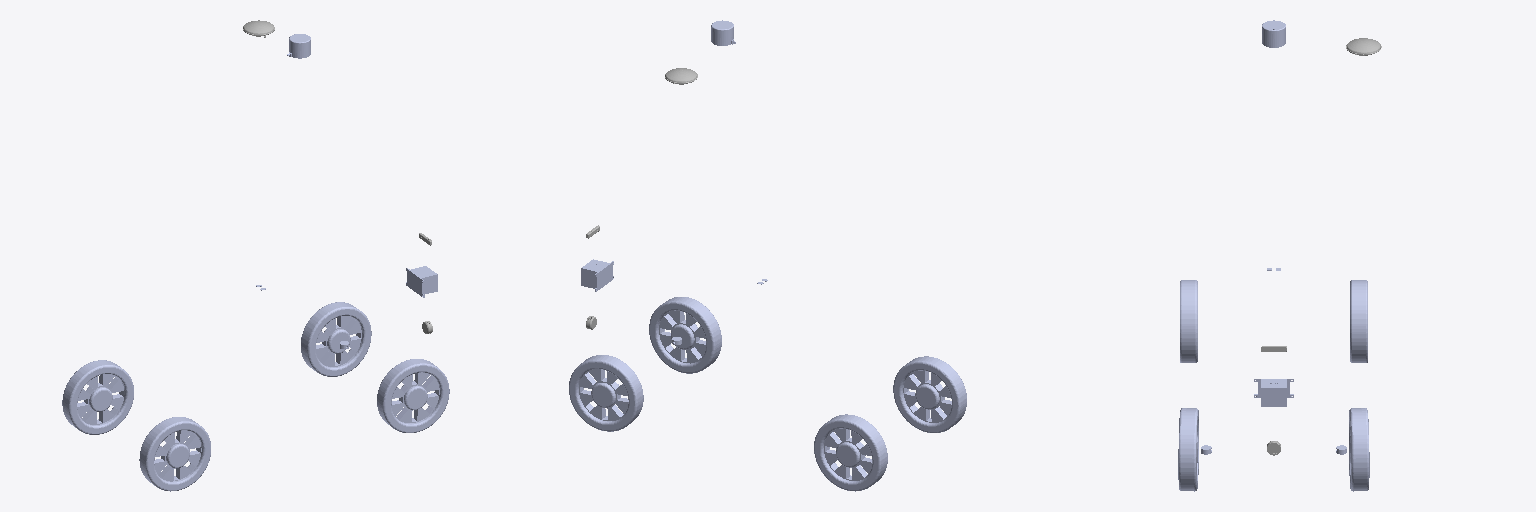
robot.urdf — carver_description:
<?xml version="1.0" encoding="utf-8"?>
<!-- This URDF was automatically created by SolidWorks to URDF Exporter! Originally created by [author] ([email redacted]) 
     Commit Version: 1.6.0-4-g7f85cfe  Build Version: 1.6.7995.38578
     For more information, please see http://wiki.ros.org/sw_urdf_exporter -->
<robot
  name="carver_description">
  <link
    name="base_link">
    <inertial>
      <origin
        xyz="0.0765717108056987 -0.000305321354473288 0.182746551264274"
        rpy="0 0 0" />
      <mass
        value="224.620223914356" />
      <inertia
        ixx="11.108875181717"
        ixy="-0.000143787949337127"
        ixz="-0.00666553671990701"
        iyy="35.7202876824402"
        iyz="-0.00132350955436525"
        izz="40.7667100665166" />
    </inertial>
    <visual>
      <origin
        xyz="0 0 0"
        rpy="0 0 0" />
      <geometry>
        <mesh
          filename="package://carver_description/meshes/base_link.STL" />
      </geometry>
      <material
        name="">
        <color
          rgba="0.792156862745098 0.819607843137255 0.933333333333333 1" />
      </material>
    </visual>
    <collision>
      <origin
        xyz="0 0 0"
        rpy="0 0 0" />
      <geometry>
        <mesh
          filename="package://carver_description/meshes/base_link.STL" />
      </geometry>
    </collision>
  </link>

  <link name="base_footprint"></link>

  <joint name="world_base_joint" type="fixed">
    <parent link="base_footprint" /> 
    <child link="base_link" />
    <origin xyz="0 0 0.345" rpy="0 0 0" />
  </joint>

  <link
    name="front_right_sterring_Link">
    <inertial>
      <origin
        xyz="-6.87012402522669E-09 3.51066137271872E-09 -0.0112499999237069"
        rpy="0 0 0" />
      <mass
        value="0.0307417074716638" />
      <inertia
        ixx="5.15827058483555E-06"
        ixy="2.87694711205719E-08"
        ixz="-2.37787643316582E-12"
        iyy="5.94711293506547E-06"
        iyz="1.79592218418332E-13"
        izz="8.17709432093611E-06" />
    </inertial>
    <visual>
      <origin
        xyz="0 0 0"
        rpy="0 0 0" />
      <geometry>
        <mesh
          filename="package://carver_description/meshes/front_right_sterring_Link.STL" />
      </geometry>
      <material
        name="">
        <color
          rgba="0.792156862745098 0.819607843137255 0.933333333333333 1" />
      </material>
    </visual>
    <collision>
      <origin
        xyz="0 0 0"
        rpy="0 0 0" />
      <geometry>
        <mesh
          filename="package://carver_description/meshes/front_right_sterring_Link.STL" />
      </geometry>
    </collision>
  </link>
  <joint
    name="base_front_right_sterring_joint"
    type="revolute">
    <origin
      xyz="0.639118924633511 -0.284499999999994 -0.158749999999999"
      rpy="0 0 0" />
    <parent
      link="base_link" />
    <child
      link="front_right_sterring_Link" />
    <axis
      xyz="0 0 -1" />
    <limit
      lower="-3.14"
      upper="3.14"
      effort="100"
      velocity="100" />
  </joint>
  <link
    name="front_right_wheel_Link">
    <inertial>
      <origin
        xyz="0.00138386531093282 8.32667268468867E-17 0.0379747931765428"
        rpy="0 0 0" />
      <mass
        value="5.024500013847" />
      <inertia
        ixx="0.0459745995956163"
        ixy="8.73502726855944E-19"
        ixz="0.00152760354434749"
        iyy="0.0459189311540779"
        iyz="2.21482778889901E-18"
        izz="0.0878380602731089" />
    </inertial>
    <visual>
      <origin
        xyz="0 0 0"
        rpy="0 0 0" />
      <geometry>
        <mesh
          filename="package://carver_description/meshes/front_right_wheel_Link.STL" />
      </geometry>
      <material
        name="">
        <color
          rgba="0.792156862745098 0.819607843137255 0.933333333333333 1" />
      </material>
    </visual>
    <collision>
      <origin
        xyz="0 0 0"
        rpy="0 0 0" />
      <geometry>
        <mesh
          filename="package://carver_description/meshes/front_right_wheel_Link.STL" />
      </geometry>
    </collision>
  </link>
  <joint
    name="front_right_steering_front_right_wheel_joint"
    type="continuous">
    <origin
      xyz="-0.00404234340824972 -0.110926369542007 -0.0112500000000002"
      rpy="-1.5707963267949 0 0" />
    <parent
      link="front_right_sterring_Link" />
    <child
      link="front_right_wheel_Link" />
    <axis
      xyz="0.036417508182449 0 0.999336662540598" />
    <limit
      effort="100"
      velocity="100" />
  </joint>
  <link
    name="front_left_sterring_Link">
    <inertial>
      <origin
        xyz="7.10743075504894E-09 -3.0012958229797E-09 -0.0112499999237069"
        rpy="0 0 0" />
      <mass
        value="0.0307417074716638" />
      <inertia
        ixx="5.15827283476504E-06"
        ixy="-2.88003004005144E-08"
        ixz="2.38464111309773E-12"
        iyy="5.94711068513598E-06"
        iyz="-6.03807311086712E-15"
        izz="8.17709432093612E-06" />
    </inertial>
    <visual>
      <origin
        xyz="0 0 0"
        rpy="0 0 0" />
      <geometry>
        <mesh
          filename="package://carver_description/meshes/front_left_sterring_Link.STL" />
      </geometry>
      <material
        name="">
        <color
          rgba="0.792156862745098 0.819607843137255 0.933333333333333 1" />
      </material>
    </visual>
    <collision>
      <origin
        xyz="0 0 0"
        rpy="0 0 0" />
      <geometry>
        <mesh
          filename="package://carver_description/meshes/front_left_sterring_Link.STL" />
      </geometry>
    </collision>
  </link>
  <joint
    name="base_front_left_sterring_joint"
    type="revolute">
    <origin
      xyz="0.639118924633511 0.284499999999994 -0.158749999999999"
      rpy="0 0 0" />
    <parent
      link="base_link" />
    <child
      link="front_left_sterring_Link" />
    <axis
      xyz="0 0 -1" />
    <limit
      lower="-3.14"
      upper="3.14"
      effort="100"
      velocity="100" />
  </joint>
  <link
    name="front_left_wheel_Link">
    <inertial>
      <origin
        xyz="0.00138386531093293 1.38777878078145E-16 -0.0379747931765427"
        rpy="0 0 0" />
      <mass
        value="5.02450001384701" />
      <inertia
        ixx="0.0459745995956163"
        ixy="4.79764755280667E-19"
        ixz="-0.00152760354434749"
        iyy="0.0459189311540779"
        iyz="-2.40802616071845E-18"
        izz="0.0878380602731089" />
    </inertial>
    <visual>
      <origin
        xyz="0 0 0"
        rpy="0 0 0" />
      <geometry>
        <mesh
          filename="package://carver_description/meshes/front_left_wheel_Link.STL" />
      </geometry>
      <material
        name="">
        <color
          rgba="0.792156862745098 0.819607843137255 0.933333333333333 1" />
      </material>
    </visual>
    <collision>
      <origin
        xyz="0 0 0"
        rpy="0 0 0" />
      <geometry>
        <mesh
          filename="package://carver_description/meshes/front_left_wheel_Link.STL" />
      </geometry>
    </collision>
  </link>
  <joint
    name="front_left_steering_front_left_wheel_joint"
    type="continuous">
    <origin
      xyz="-0.00404234340824972 0.110926369542007 -0.0112500000000002"
      rpy="-1.5707963267949 0 0" />
    <parent
      link="front_left_sterring_Link" />
    <child
      link="front_left_wheel_Link" />
    <axis
      xyz="0.036417508182449 0 -0.999336662540598" />
    <limit
      effort="100"
      velocity="100" />
  </joint>
  <link
    name="rear_right_wheel_Link">
    <inertial>
      <origin
        xyz="-1.11022302462516E-16 -8.32667268468867E-17 0.0379999999999999"
        rpy="0 0 0" />
      <mass
        value="5.024500013847" />
      <inertia
        ixx="0.0459189311540779"
        ixy="-1.56634920793041E-17"
        ixz="1.5500519296842E-19"
        iyy="0.045918931154078"
        iyz="2.98988825793E-19"
        izz="0.0878937287146473" />
    </inertial>
    <visual>
      <origin
        xyz="0 0 0"
        rpy="0 0 0" />
      <geometry>
        <mesh
          filename="package://carver_description/meshes/rear_right_wheel_Link.STL" />
      </geometry>
      <material
        name="">
        <color
          rgba="0.792156862745098 0.819607843137255 0.933333333333333 1" />
      </material>
    </visual>
    <collision>
      <origin
        xyz="0 0 0"
        rpy="0 0 0" />
      <geometry>
        <mesh
          filename="package://carver_description/meshes/rear_right_wheel_Link.STL" />
      </geometry>
    </collision>
  </link>
  <joint
    name="base_rear_right_wheel_joint"
    type="continuous">
    <origin
      xyz="-0.636881075366491 -0.3955 -0.17"
      rpy="-1.5707963267949 0 0" />
    <parent
      link="base_link" />
    <child
      link="rear_right_wheel_Link" />
    <axis
      xyz="0 0 1" />
    <limit
      effort="100"
      velocity="100" />
  </joint>
  <link
    name="rear_left_wheel_Link">
    <inertial>
      <origin
        xyz="-1.11022302462516E-16 -5.55111512312578E-17 -0.038"
        rpy="0 0 0" />
      <mass
        value="5.024500013847" />
      <inertia
        ixx="0.0459189311540779"
        ixy="-1.69253786030664E-17"
        ixz="-3.82127958527989E-20"
        iyy="0.0459189311540779"
        iyz="-3.5370156940672E-19"
        izz="0.0878937287146472" />
    </inertial>
    <visual>
      <origin
        xyz="0 0 0"
        rpy="0 0 0" />
      <geometry>
        <mesh
          filename="package://carver_description/meshes/rear_left_wheel_Link.STL" />
      </geometry>
      <material
        name="">
        <color
          rgba="0.792156862745098 0.819607843137255 0.933333333333333 1" />
      </material>
    </visual>
    <collision>
      <origin
        xyz="0 0 0"
        rpy="0 0 0" />
      <geometry>
        <mesh
          filename="package://carver_description/meshes/rear_left_wheel_Link.STL" />
      </geometry>
    </collision>
  </link>
  <joint
    name="base_rear_left_wheel_joint"
    type="continuous">
    <origin
      xyz="-0.636881075366491 0.3955 -0.17"
      rpy="-1.5707963267949 0 0" />
    <parent
      link="base_link" />
    <child
      link="rear_left_wheel_Link" />
    <axis
      xyz="0 0 -1" />
    <limit
      effort="100"
      velocity="100" />
  </joint>
  <link
    name="C16_Link">
    <inertial>
      <origin
        xyz="-0.00088474978448877 1.07190642272392E-07 0.00143612694647577"
        rpy="0 0 0" />
      <mass
        value="0.663324628749119" />
      <inertia
        ixx="0.000791421263365419"
        ixy="1.38226469561758E-09"
        ixz="-5.15681751766988E-06"
        iyy="0.000800507843146539"
        iyz="1.51968163395454E-09"
        izz="0.000866550903215115" />
    </inertial>
    <visual>
      <origin
        xyz="0 0 0"
        rpy="0 0 0" />
      <geometry>
        <mesh
          filename="package://carver_description/meshes/C16_Link.STL" />
      </geometry>
      <material
        name="">
        <color
          rgba="0.792156862745098 0.819607843137255 0.933333333333333 1" />
      </material>
    </visual>
    <collision>
      <origin
        xyz="0 0 0"
        rpy="0 0 0" />
      <geometry>
        <mesh
          filename="package://carver_description/meshes/C16_Link.STL" />
      </geometry>
    </collision>
  </link>
  <joint
    name="base_C16_joint"
    type="fixed">
    <origin
      xyz="0.237767026438191 0 1.56788196587259"
      rpy="0 0 0" />
    <parent
      link="base_link" />
    <child
      link="C16_Link" />
    <axis
      xyz="0 0 0" />
  </joint>
  <link
    name="T265_Link">
    <inertial>
      <origin
        xyz="-0.00700393876079974 -0.00123869269728641 -9.55081819808967E-06"
        rpy="0 0 0" />
      <mass
        value="0.015352262982903" />
      <inertia
        ixx="1.39361946583924E-05"
        ixy="1.34672770579493E-08"
        ixz="1.90513550223783E-09"
        iyy="9.41413823478598E-07"
        iyz="4.36675000350756E-09"
        izz="1.32399745397941E-05" />
    </inertial>
    <visual>
      <origin
        xyz="0 0 0"
        rpy="0 0 0" />
      <geometry>
        <mesh
          filename="package://carver_description/meshes/T265_Link.STL" />
      </geometry>
      <material
        name="">
        <color
          rgba="0.752941176470588 0.752941176470588 0.752941176470588 1" />
      </material>
    </visual>
    <collision>
      <origin
        xyz="0 0 0"
        rpy="0 0 0" />
      <geometry>
        <mesh
          filename="package://carver_description/meshes/T265_Link.STL" />
      </geometry>
    </collision>
  </link>
  <joint
    name="base_T265_joint"
    type="fixed">
    <origin
      xyz="0.914568924633506 0.000699999999822833 0.423999999999455"
      rpy="0 0 0" />
    <parent
      link="base_link" />
    <child
      link="T265_Link" />
    <axis
      xyz="0 0 0" />
  </joint>
  <link
    name="L515_Link">
    <inertial>
      <origin
        xyz="-0.0138329335160927 0.000212766276144195 -0.0151333320328252"
        rpy="0 0 0" />
      <mass
        value="0.0519003008833496" />
      <inertia
        ixx="2.29233885806633E-05"
        ixy="-3.43966785553731E-08"
        ixz="-9.60811102903896E-09"
        iyy="1.23501086319306E-05"
        iyz="1.73643710033919E-07"
        izz="1.35094237257254E-05" />
    </inertial>
    <visual>
      <origin
        xyz="0 0 0"
        rpy="0 0 0" />
      <geometry>
        <mesh
          filename="package://carver_description/meshes/L515_Link.STL" />
      </geometry>
      <material
        name="">
        <color
          rgba="0.752941176470588 0.752941176470588 0.752941176470588 1" />
      </material>
    </visual>
    <collision>
      <origin
        xyz="0 0 0"
        rpy="0 0 0" />
      <geometry>
        <mesh
          filename="package://carver_description/meshes/L515_Link.STL" />
      </geometry>
    </collision>
  </link>
  <joint
    name="base_L515_joint"
    type="fixed">
    <origin
      xyz="0.929717002207267 -1.17161560733146E-05 -0.0149951470092575"
      rpy="0 0 0" />
    <parent
      link="base_link" />
    <child
      link="L515_Link" />
    <axis
      xyz="0 0 0" />
  </joint>
  <link
    name="LD_SICK_Link">
    <inertial>
      <origin
        xyz="-0.0476495449150161 3.70691349494235E-07 -4.44702155644183E-06"
        rpy="0 0 0" />
      <mass
        value="0.911976961838322" />
      <inertia
        ixx="0.00155787250018401"
        ixy="-1.82431705564109E-09"
        ixz="2.07922879380138E-08"
        iyy="0.0012763862501827"
        iyz="-1.43394136883926E-08"
        izz="0.00165040465761084" />
    </inertial>
    <visual>
      <origin
        xyz="0 0 0"
        rpy="0 0 0" />
      <geometry>
        <mesh
          filename="package://carver_description/meshes/LD_SICK_Link.STL" />
      </geometry>
      <material
        name="">
        <color
          rgba="0.792156862745098 0.819607843137255 0.933333333333333 1" />
      </material>
    </visual>
    <collision>
      <origin
        xyz="0 0 0"
        rpy="0 0 0" />
      <geometry>
        <mesh
          filename="package://carver_description/meshes/LD_SICK_Link.STL" />
      </geometry>
    </collision>
  </link>
  <joint
    name="base_LD_SICK_joint"
    type="fixed">
    <origin
      xyz="0.942318924633513 0 0.215"
      rpy="0 0 0" />
    <parent
      link="base_link" />
    <child
      link="LD_SICK_Link" />
    <axis
      xyz="0 0 0" />
  </joint>
<!-- /////////////////////////////// -->
  <link name="laser"></link>

  <joint name="base_laser_joint" type="fixed">
    <parent link="base_link"/>
    <child link="laser"/>
    <origin xyz="0 0 0.154015" rpy="0 0 0"/>
  </joint>
<!-- /////////////////////////////// -->

  <link
    name="RPLIDAR_LB_Link">
    <inertial>
      <origin
        xyz="-0.000213861534750115 -9.30543889128277E-05 -0.0160849090284972"
        rpy="0 0 0" />
      <mass
        value="0.0328083847884842" />
      <inertia
        ixx="1.08465576772131E-05"
        ixy="-2.43583766177749E-09"
        ixz="1.62330710182403E-08"
        iyy="1.07881861028149E-05"
        iyz="-4.20828622810503E-09"
        izz="1.96376022023911E-05" />
    </inertial>
    <visual>
      <origin
        xyz="0 0 0"
        rpy="0 0 0" />
      <geometry>
        <mesh
          filename="package://carver_description/meshes/RPLIDAR_LB_Link.STL" />
      </geometry>
      <material
        name="">
        <color
          rgba="0.4 0.4 0.4 1" />
      </material>
    </visual>
    <collision>
      <origin
        xyz="0 0 0"
        rpy="0 0 0" />
      <geometry>
        <mesh
          filename="package://carver_description/meshes/RPLIDAR_LB_Link.STL" />
      </geometry>
    </collision>
  </link>
<!-- /////////////////////////////// -->
  <joint
    name="laser_RPLIDAR_LB_joint"
    type="fixed">
    <origin
      xyz="-0.851155901465486 0.34071809177296 0"
      rpy="0 0 3.14124991984497" />
    <parent
      link="laser" />
    <child
      link="RPLIDAR_LB_Link" />
    <axis
      xyz="0 0 0" />
  </joint>
<!-- /////////////////////////////// -->


  <link
    name="IMU_R_Link">
    <inertial>
      <origin
        xyz="0.000436358638984391 8.66736194223838E-05 -0.0010632487544171"
        rpy="0 0 0" />
      <mass
        value="0.000983130183652042" />
      <inertia
        ixx="2.7278081479223E-08"
        ixy="-1.86463715352951E-11"
        ixz="-1.83135757569472E-11"
        iyy="4.80453464098755E-08"
        iyz="1.81575171892503E-12"
        izz="7.48563776021962E-08" />
    </inertial>
    <visual>
      <origin
        xyz="0 0 0"
        rpy="0 0 0" />
      <geometry>
        <mesh
          filename="package://carver_description/meshes/IMU_R_Link.STL" />
      </geometry>
      <material
        name="">
        <color
          rgba="0.792156862745098 0.819607843137255 0.933333333333333 1" />
      </material>
    </visual>
    <collision>
      <origin
        xyz="0 0 0"
        rpy="0 0 0" />
      <geometry>
        <mesh
          filename="package://carver_description/meshes/IMU_R_Link.STL" />
      </geometry>
    </collision>
  </link>
  <joint
    name="base_IMU_R_joint"
    type="fixed">
    <origin
      xyz="0.0271694412238607 -0.0191012435918216 0.383"
      rpy="0 0 0" />
    <parent
      link="base_link" />
    <child
      link="IMU_R_Link" />
    <axis
      xyz="0 0 0" />
  </joint>
  <link
    name="IMU_L_Link">
    <inertial>
      <origin
        xyz="0.000436358638983645 8.6673619412142E-05 -0.0010632487544171"
        rpy="0 0 0" />
      <mass
        value="0.000983130183652038" />
      <inertia
        ixx="2.7278081479223E-08"
        ixy="-1.86463715354835E-11"
        ixz="-1.83135757570018E-11"
        iyy="4.80453464098757E-08"
        iyz="1.8157517189233E-12"
        izz="7.48563776021965E-08" />
    </inertial>
    <visual>
      <origin
        xyz="0 0 0"
        rpy="0 0 0" />
      <geometry>
        <mesh
          filename="package://carver_description/meshes/IMU_L_Link.STL" />
      </geometry>
      <material
        name="">
        <color
          rgba="0.792156862745098 0.819607843137255 0.933333333333333 1" />
      </material>
    </visual>
    <collision>
      <origin
        xyz="0 0 0"
        rpy="0 0 0" />
      <geometry>
        <mesh
          filename="package://carver_description/meshes/IMU_L_Link.STL" />
      </geometry>
    </collision>
  </link>
  <joint
    name="base_IMU_L_joint"
    type="fixed">
    <origin
      xyz="0.029419441223861 0.0191387564081886 0.383"
      rpy="0 0 0" />
    <parent
      link="base_link" />
    <child
      link="IMU_L_Link" />
    <axis
      xyz="0 0 0" />
  </joint>
  <link
    name="RPLIDAR_RF_Link">
    <inertial>
      <origin
        xyz="-0.000213861585845465 -9.30543355081581E-05 -0.0160849091652615"
        rpy="0 0 0" />
      <mass
        value="0.0328083843446528" />
      <inertia
        ixx="1.0846557670466E-05"
        ixy="-2.43584017901228E-09"
        ixz="1.62330727639126E-08"
        iyy="1.07881860979038E-05"
        iyz="-4.20828723807052E-09"
        izz="1.96376022018237E-05" />
    </inertial>
    <visual>
      <origin
        xyz="0 0 0"
        rpy="0 0 0" />
      <geometry>
        <mesh
          filename="package://carver_description/meshes/RPLIDAR_RF_Link.STL" />
      </geometry>
      <material
        name="">
        <color
          rgba="0.4 0.4 0.4 1" />
      </material>
    </visual>
    <collision>
      <origin
        xyz="0 0 0"
        rpy="0 0 0" />
      <geometry>
        <mesh
          filename="package://carver_description/meshes/RPLIDAR_RF_Link.STL" />
      </geometry>
    </collision>
  </link>

<!-- /////////////////////////////// -->
  <joint
    name="laser_RPLIDAR_RF_joint"
    type="fixed">
    <origin
      xyz="0.912523944720348 -0.381327891424126 0"
      rpy="0 0 0" />
    <parent
      link="laser" />
    <child
      link="RPLIDAR_RF_Link" />
    <axis
      xyz="0 0 0" />
  </joint>
<!-- /////////////////////////////// -->
  <link
    name="GPS_Link">
    <inertial>
      <origin
        xyz="-9.67258589844588E-05 0.0027958130626774 0.00661285112166099"
        rpy="0 0 0" />
      <mass
        value="0.157649586184773" />
      <inertia
        ixx="0.000226882899026971"
        ixy="9.62036039848663E-09"
        ixz="-6.77183823681943E-09"
        iyy="0.000226230125367234"
        iyz="2.64715488241936E-07"
        izz="0.000435038255871577" />
    </inertial>
    <visual>
      <origin
        xyz="0 0 0"
        rpy="0 0 0" />
      <geometry>
        <mesh
          filename="package://carver_description/meshes/GPS_Link.STL" />
      </geometry>
      <material
        name="">
        <color
          rgba="0.752941176470588 0.752941176470588 0.752941176470588 1" />
      </material>
    </visual>
    <collision>
      <origin
        xyz="0 0 0"
        rpy="0 0 0" />
      <geometry>
        <mesh
          filename="package://carver_description/meshes/GPS_Link.STL" />
      </geometry>
    </collision>
  </link>
  <joint
    name="base_GPS_joint"
    type="fixed">
    <origin
      xyz="0.23423178728353 0.373617987041938 1.499"
      rpy="0 0 0" />
    <parent
      link="base_link" />
    <child
      link="GPS_Link" />
    <axis
      xyz="0 0 0" />
  </joint>
</robot>

--- Facts derived from the render (not from the file) ---
Views: 3 orthographic renders of the robot side by side, from view 1: azimuth 30°, elevation 25°; view 2: azimuth 150°, elevation 25°; view 3: azimuth 270°, elevation 25°.
Robot: carver_description — 18 links, 17 joints (2 revolute, 4 continuous, 11 fixed); root link base_footprint; default pose: every joint at zero.
Links seen in each view (by area): view 1: front_right_wheel_Link, rear_left_wheel_Link, rear_right_wheel_Link, front_left_wheel_Link, LD_SICK_Link; view 2: front_left_wheel_Link, rear_left_wheel_Link, rear_right_wheel_Link, front_right_wheel_Link, LD_SICK_Link, C16_Link; view 3: front_right_wheel_Link, front_left_wheel_Link, rear_right_wheel_Link, rear_left_wheel_Link, LD_SICK_Link, C16_Link.
Link boxes in pixels (left/top/right/bottom): front_right_wheel_Link: left=377, top=359, right=449, bottom=432; rear_left_wheel_Link: left=62, top=360, right=133, bottom=434; rear_right_wheel_Link: left=139, top=417, right=210, bottom=491; front_left_wheel_Link: left=301, top=302, right=371, bottom=376; LD_SICK_Link: left=406, top=266, right=437, bottom=297; front_left_wheel_Link: left=569, top=355, right=643, bottom=431; rear_left_wheel_Link: left=814, top=414, right=887, bottom=491; rear_right_wheel_Link: left=893, top=356, right=966, bottom=432; front_right_wheel_Link: left=649, top=297, right=721, bottom=373; LD_SICK_Link: left=581, top=259, right=613, bottom=291; C16_Link: left=711, top=20, right=735, bottom=45; front_right_wheel_Link: left=1178, top=408, right=1198, bottom=491; front_left_wheel_Link: left=1349, top=408, right=1369, bottom=491; rear_right_wheel_Link: left=1180, top=280, right=1197, bottom=362; rear_left_wheel_Link: left=1350, top=280, right=1367, bottom=362; LD_SICK_Link: left=1254, top=379, right=1293, bottom=406; C16_Link: left=1262, top=20, right=1285, bottom=47.
Size in the robot's own frame: 1.75 by 0.8534 by 1.96 metres.
Meshes: 16 distinct files referenced, 13 mesh visuals loaded (13 binary STL); not drawn: 3 (reference not matched to a file when rendering).
